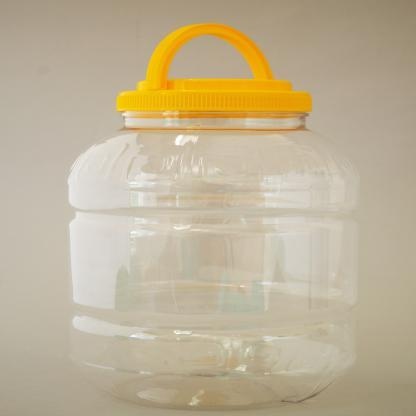bottle: (46, 11, 387, 408)
